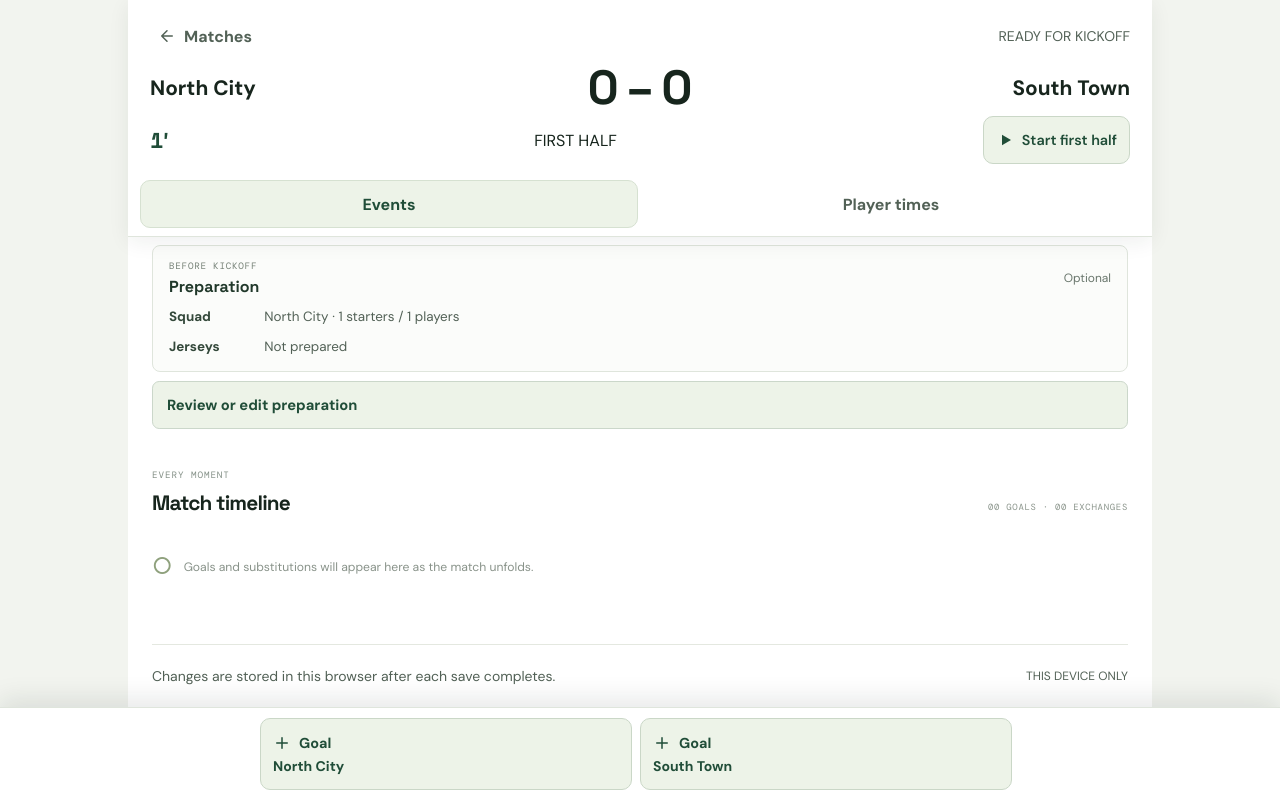
Test: MatchDetailPage › does not reopen a committed goal on unrelated saves or when a match is reloaded
Click the button with aria-label "Record goal for North City" at (315, 743), box [260, 718, 632, 790]
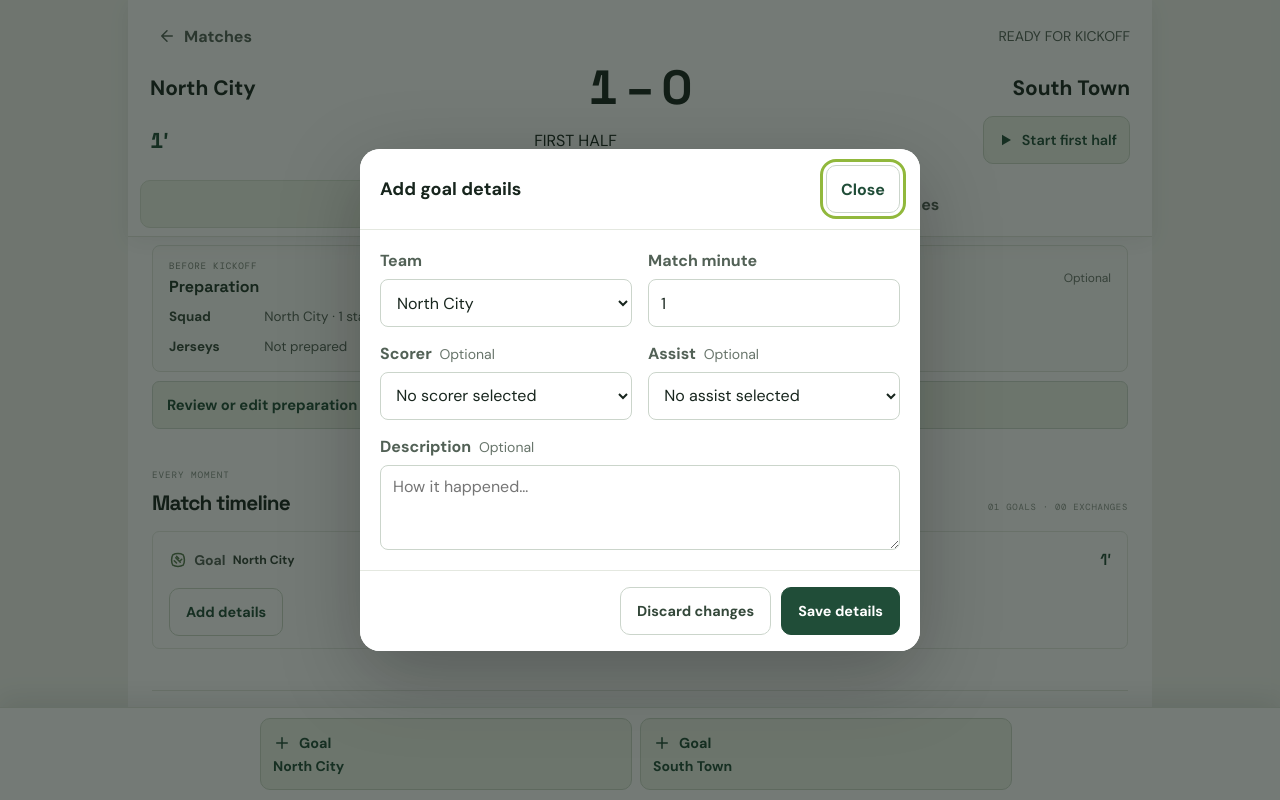
Click the button with class "focused-editor__close" at (863, 189), box [826, 165, 900, 213]
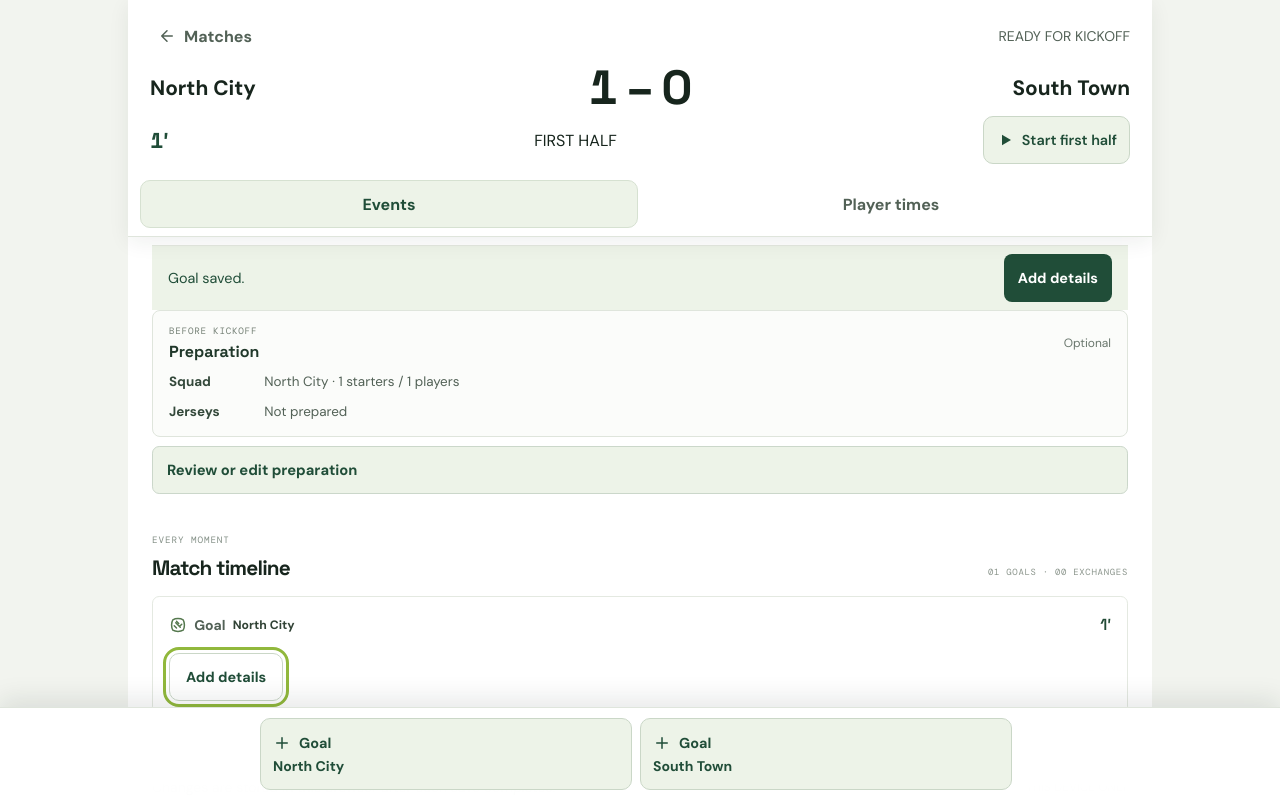
Result: the dialog is gone
